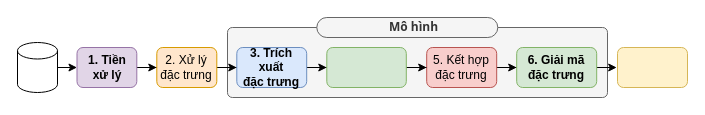
Some shapes in this 705 by 115 pixel diagram are drawn without their labels. Each missing label, with the centre of its shape:
"4. Mã hoá đặc trưng" goes at [366,67].
"7. Kết xuất" goes at [652,67].
"Dữ liệu" goes at [37,67].
